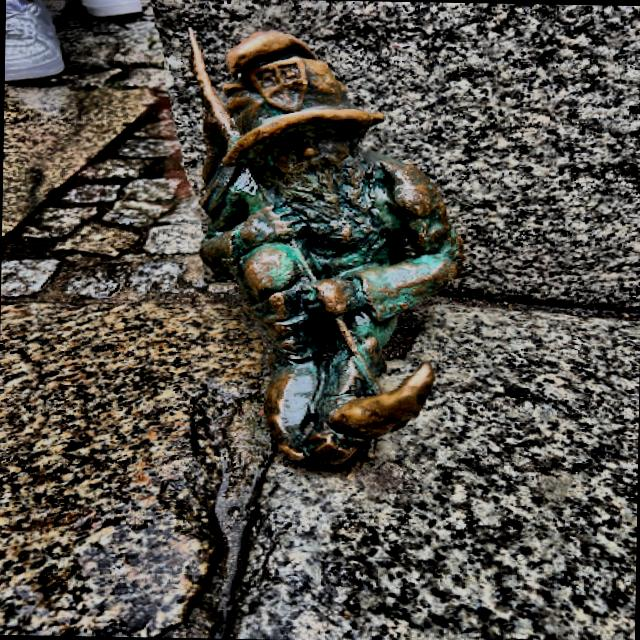Spioch: (189, 28, 460, 467)
